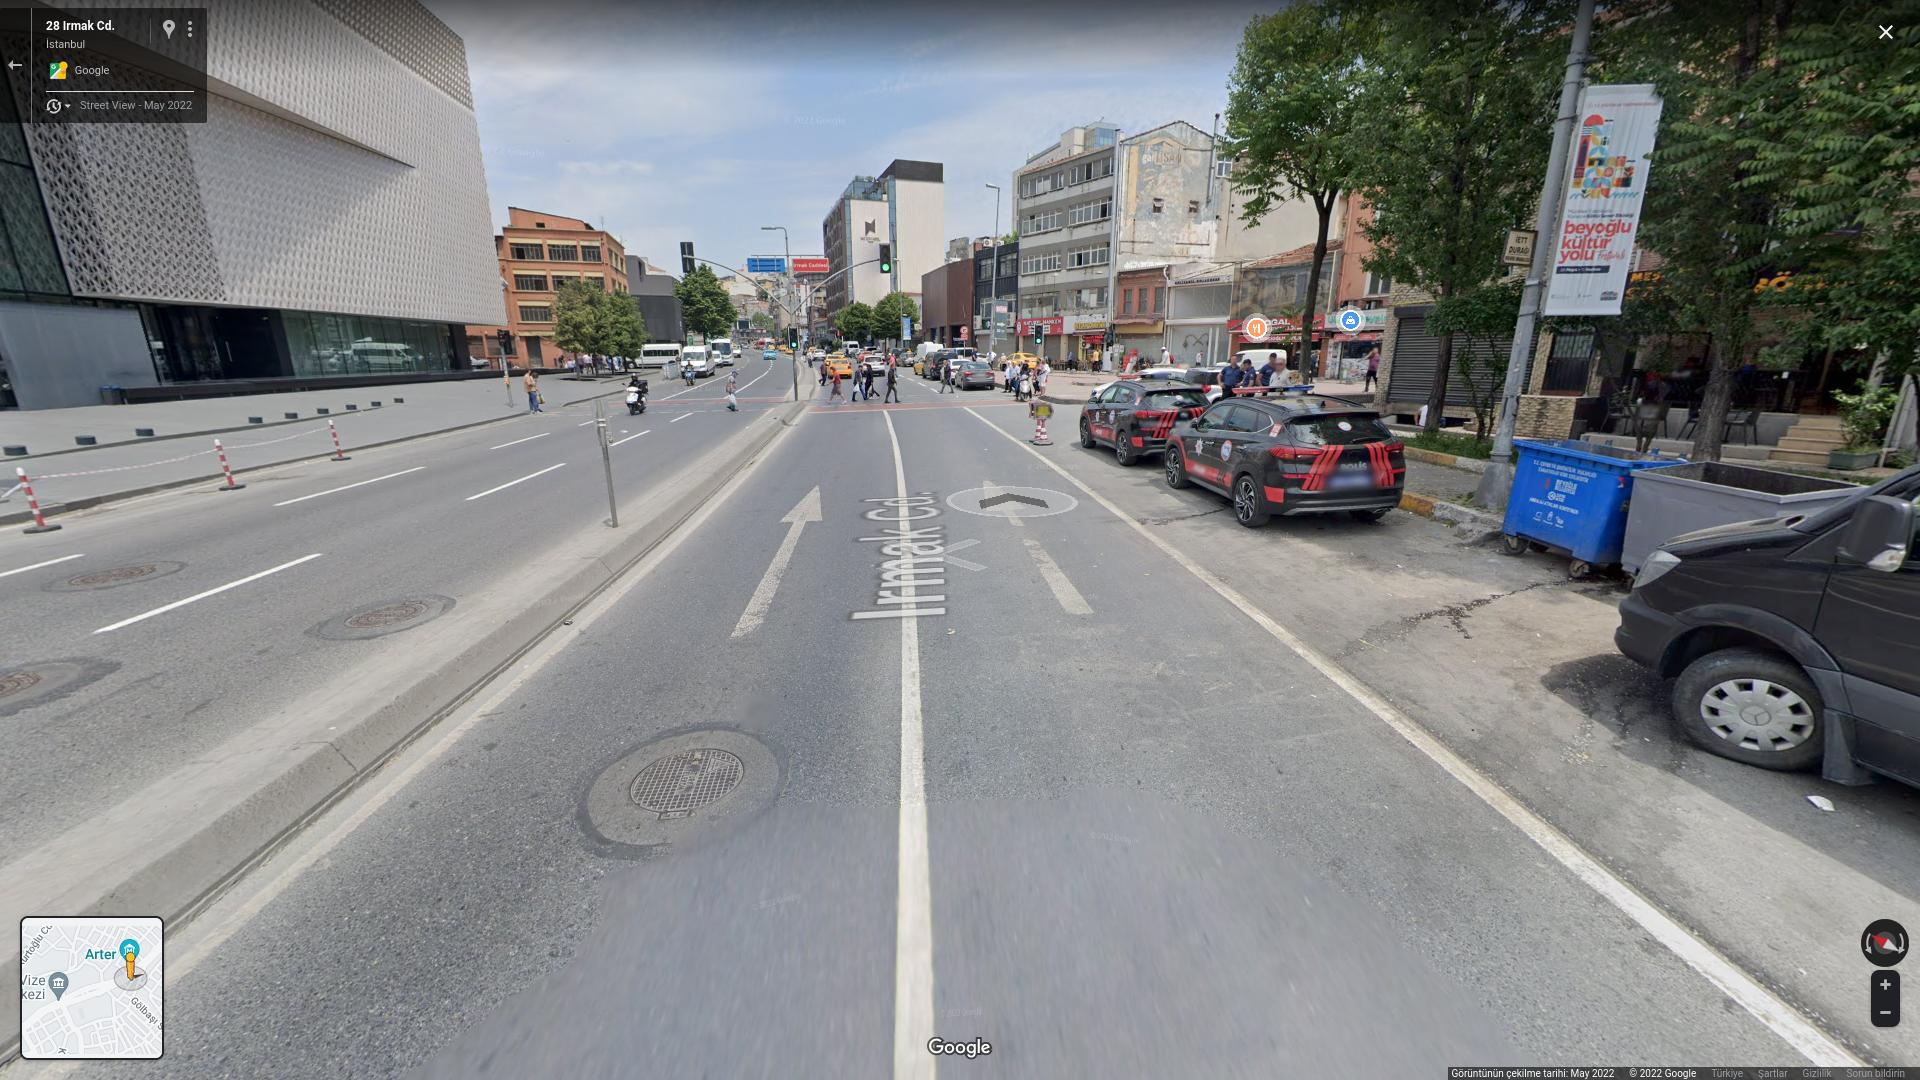greenlight: (881, 244, 891, 274), (789, 326, 800, 349), (1034, 324, 1042, 344)
rightturnsareforbidden: (961, 327, 969, 335)
